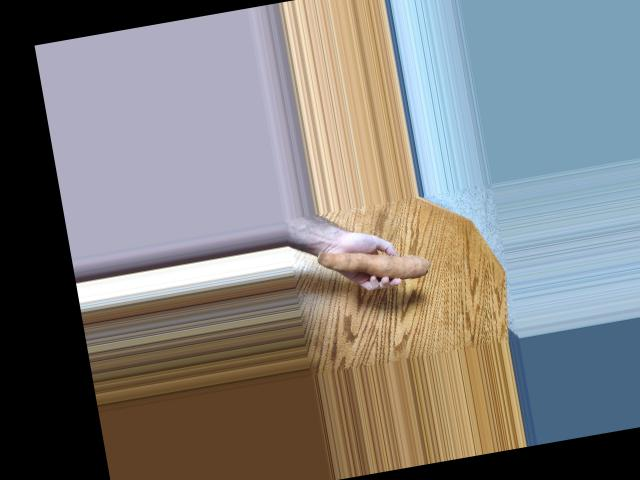sweet_potato: (321, 237, 434, 295)
